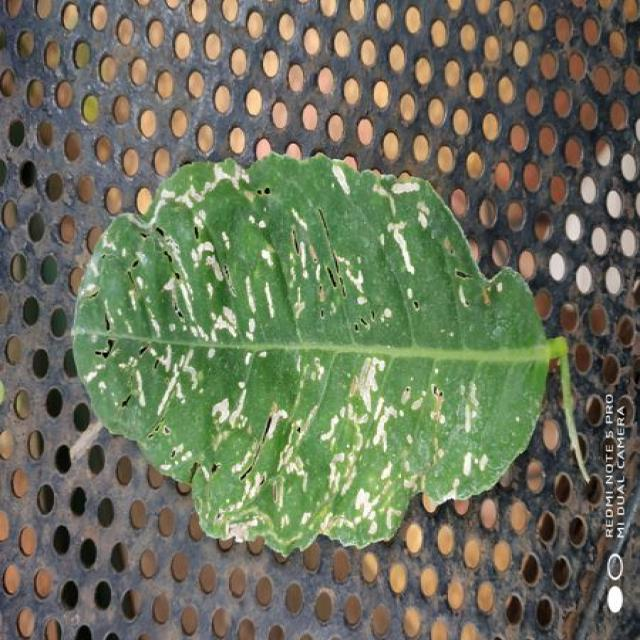badipala: (73, 155, 588, 553)
disease in leaf: (73, 155, 475, 553)
